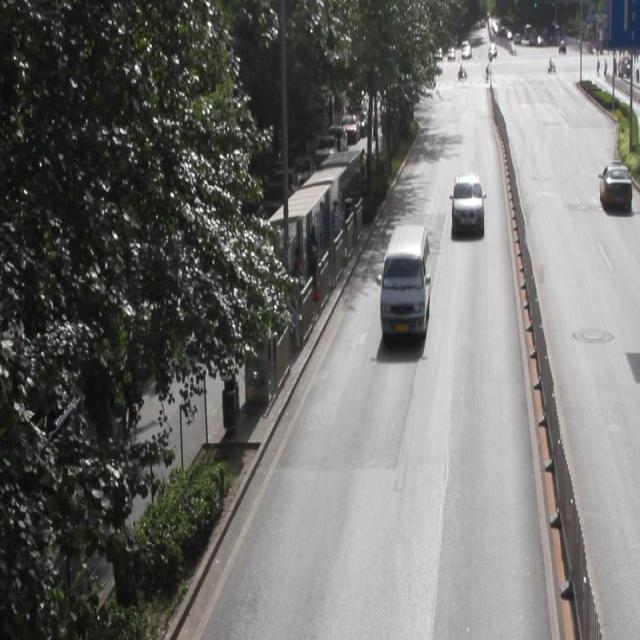car: (449, 173, 484, 230), (597, 161, 630, 210)
truck: (379, 222, 429, 336)
